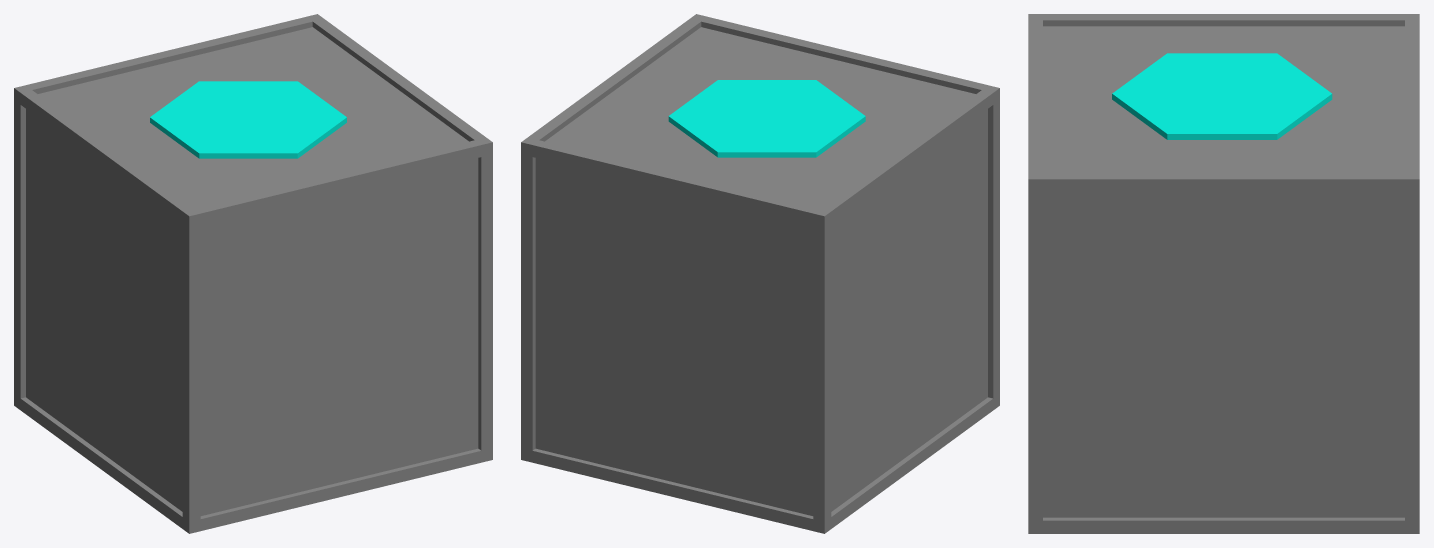
File: CyborgFacility_Crate_001.fbx
3 views of the same model, side by side, from view 1: azimuth 30°, elevation 25°; view 2: azimuth 150°, elevation 25°; view 3: azimuth 270°, elevation 25° (orthographic). The views are drawn at different scales.
Visible parts, largest first — view 1: Cube.002; view 2: Cube.002; view 3: Cube.002.
Boxes of the visible parts, x1,y1,x2,y2 form: Cube.002: [14, 14, 492, 533]; Cube.002: [521, 14, 999, 533]; Cube.002: [1028, 14, 1419, 533].
Size of the model in its own units: 200 by 200 by 200.
1 material, 1 textured.
